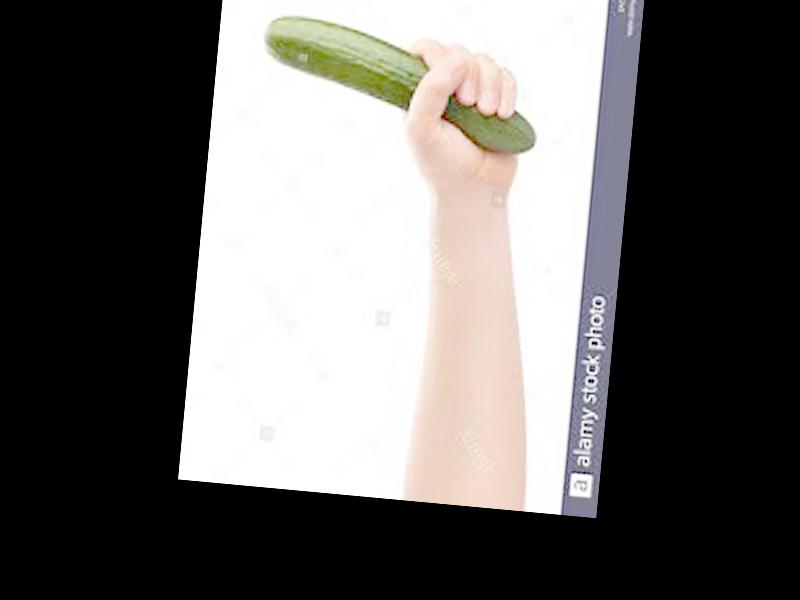Cucumber: (257, 12, 544, 153)
